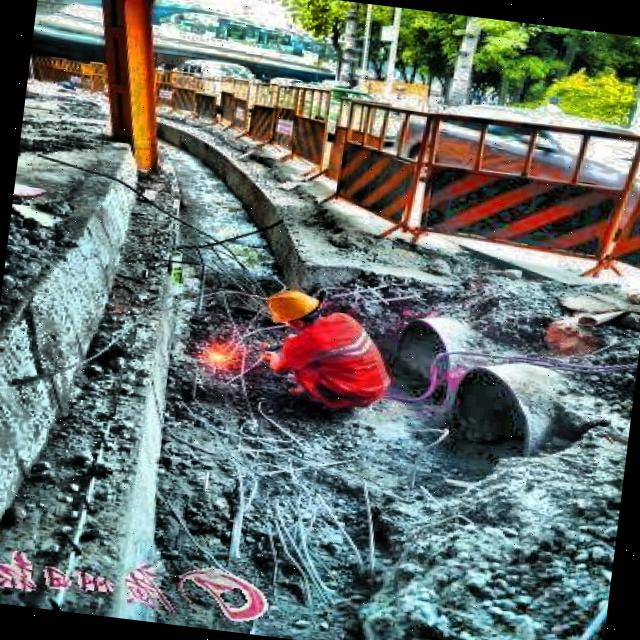helmet: (259, 282, 326, 333)
